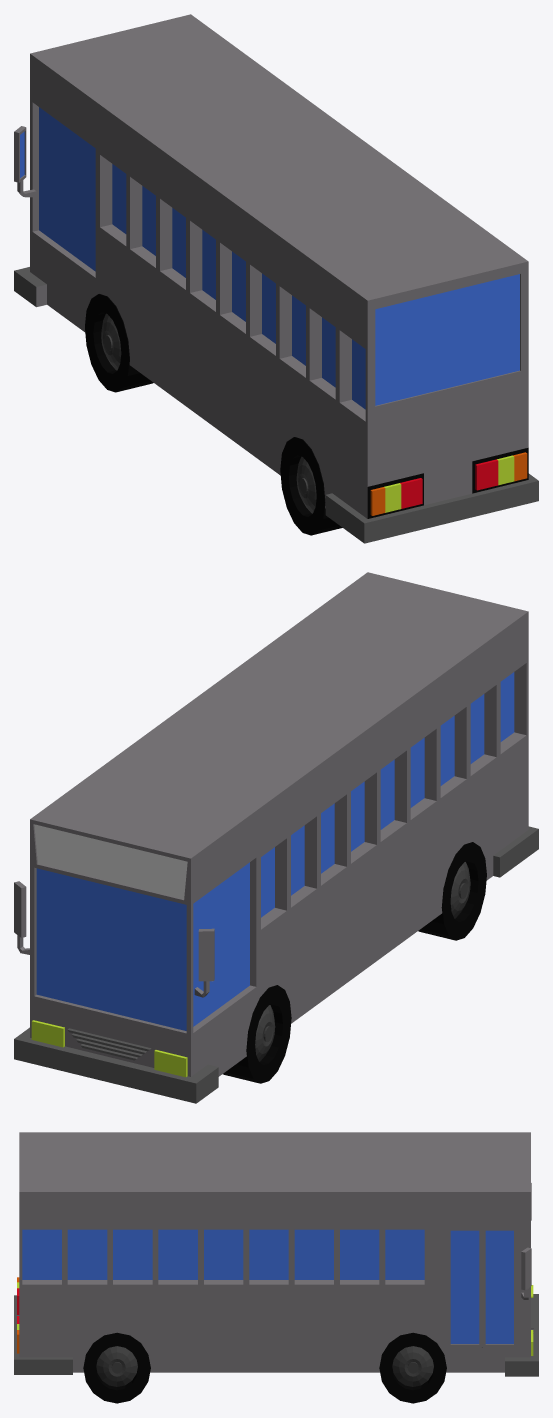
The model's file is busGrey.glb.
3 views of the same model, one above another, from view 1: azimuth 30°, elevation 25°; view 2: azimuth 150°, elevation 25°; view 3: azimuth 270°, elevation 25° (orthographic). The views are drawn at different scales.
Parts seen in each view (by area): view 1: Bus3; view 2: Bus3; view 3: Bus3.
Part boxes in pixels (box(x1,y1,x2,y2)): Bus3: box(14, 14, 538, 543); Bus3: box(14, 572, 538, 1103); Bus3: box(14, 1132, 538, 1403).
Size of the model in its own units: 12 by 16 by 36.
